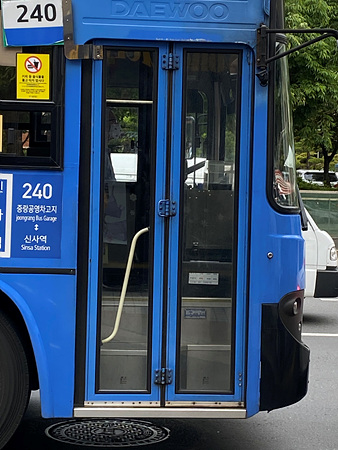entrance: (80, 31, 250, 415)
